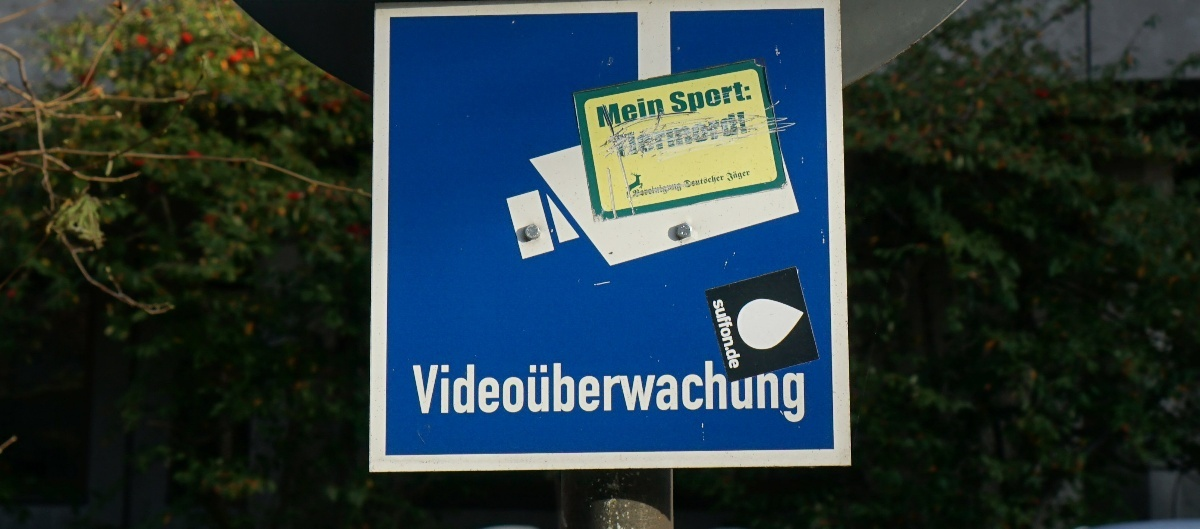text: (417, 360, 432, 423), (433, 360, 448, 423), (449, 360, 464, 423), (465, 360, 480, 423), (481, 360, 496, 423), (497, 360, 512, 423), (513, 360, 528, 423), (529, 360, 544, 423), (545, 360, 560, 423), (561, 360, 576, 423), (577, 360, 592, 423), (593, 360, 608, 423), (609, 360, 624, 423), (625, 360, 640, 423), (641, 360, 656, 423), (657, 360, 672, 423), (673, 360, 688, 423), (689, 360, 704, 423), (705, 360, 720, 423), (721, 360, 736, 423), (737, 360, 752, 423), (753, 360, 768, 423), (769, 360, 784, 423), (785, 360, 800, 423), (725, 298, 736, 370), (625, 111, 640, 158), (641, 111, 656, 158), (657, 111, 672, 158), (673, 111, 688, 158), (689, 111, 704, 158), (705, 111, 720, 158), (721, 111, 736, 158), (612, 111, 624, 158), (737, 81, 753, 115), (673, 81, 688, 115), (689, 81, 704, 115), (705, 81, 720, 115), (721, 81, 736, 115), (737, 298, 744, 370), (609, 96, 624, 128), (625, 96, 640, 128), (641, 96, 656, 128), (737, 111, 747, 158), (596, 96, 608, 128), (641, 182, 656, 200), (657, 182, 672, 200), (657, 96, 665, 128), (801, 360, 805, 423), (689, 174, 704, 189), (705, 174, 720, 189), (413, 360, 416, 423), (737, 170, 751, 182), (673, 182, 682, 200), (632, 182, 640, 200), (726, 170, 736, 182), (669, 81, 672, 115), (683, 174, 688, 189), (721, 174, 725, 189)
